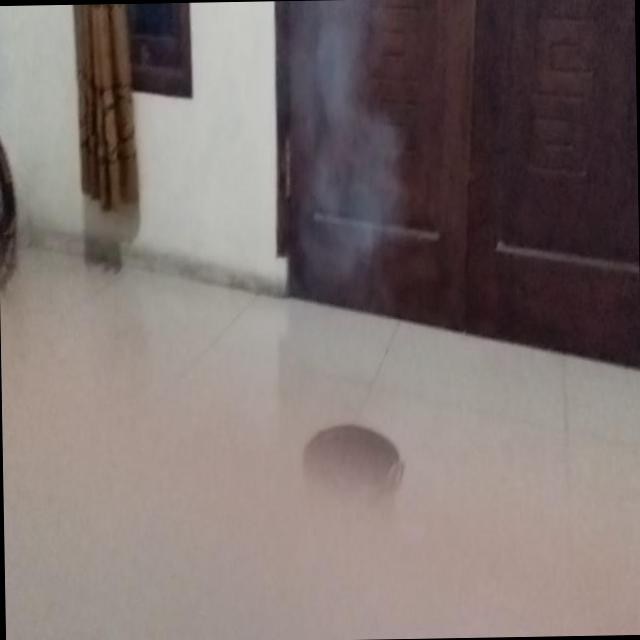smoke: (188, 62, 410, 332)
